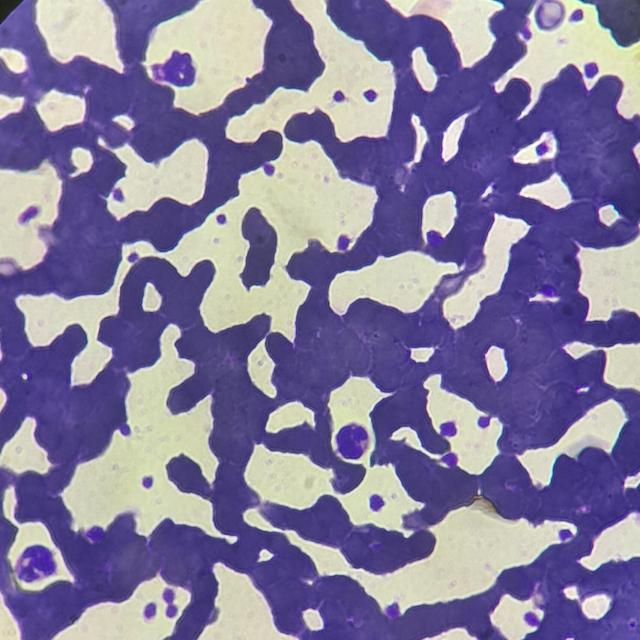Neutrofilo: (15, 546, 58, 583), (337, 424, 370, 457)
